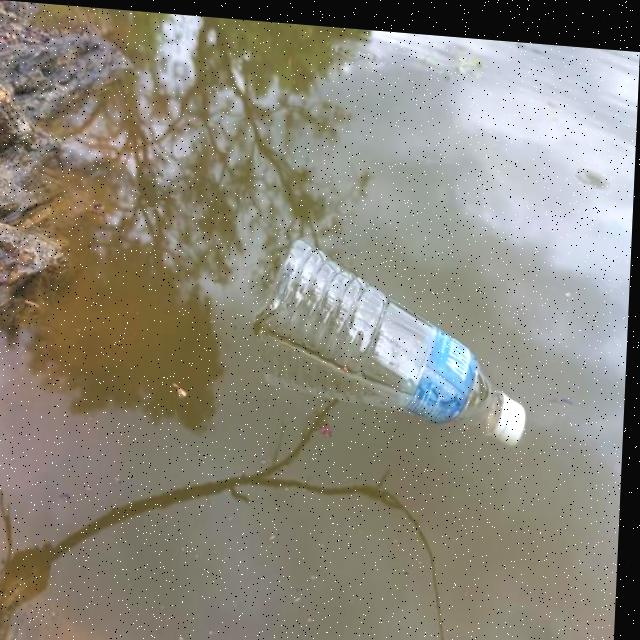waterbottle: (245, 219, 532, 451)
